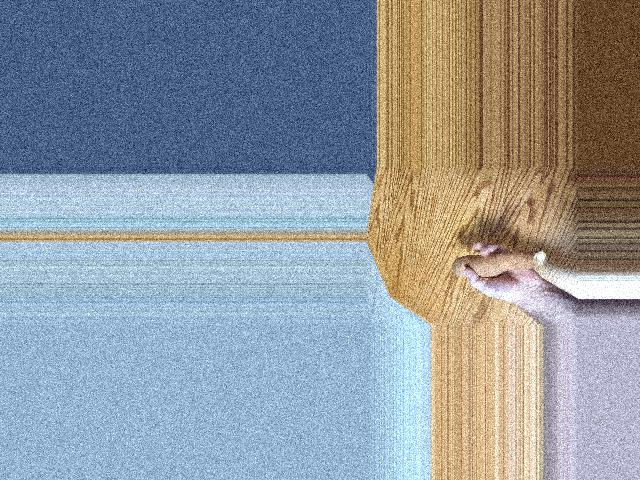sweet_potato: (458, 249, 538, 279)
